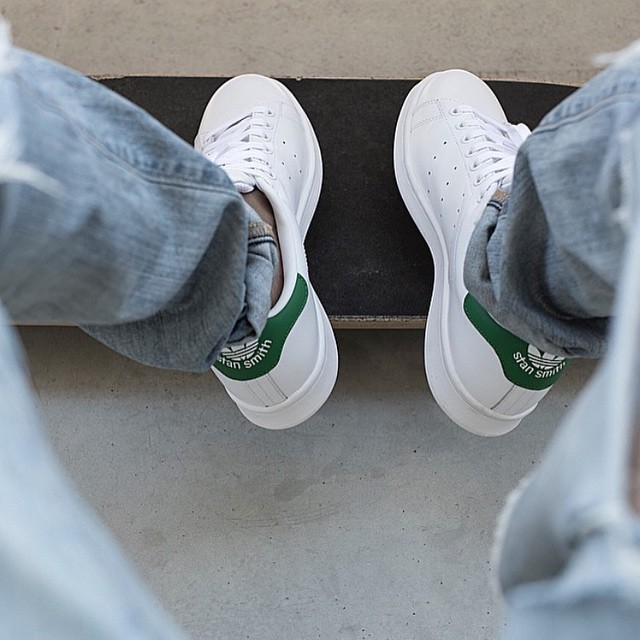sneaker: (366, 59, 588, 448), (169, 64, 364, 448)
